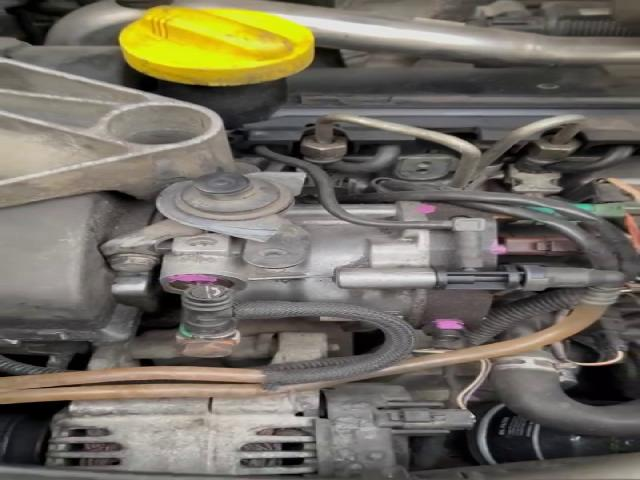alternator: (46, 413, 316, 475)
high_pressure_pump: (159, 204, 492, 348), (344, 202, 497, 269)
